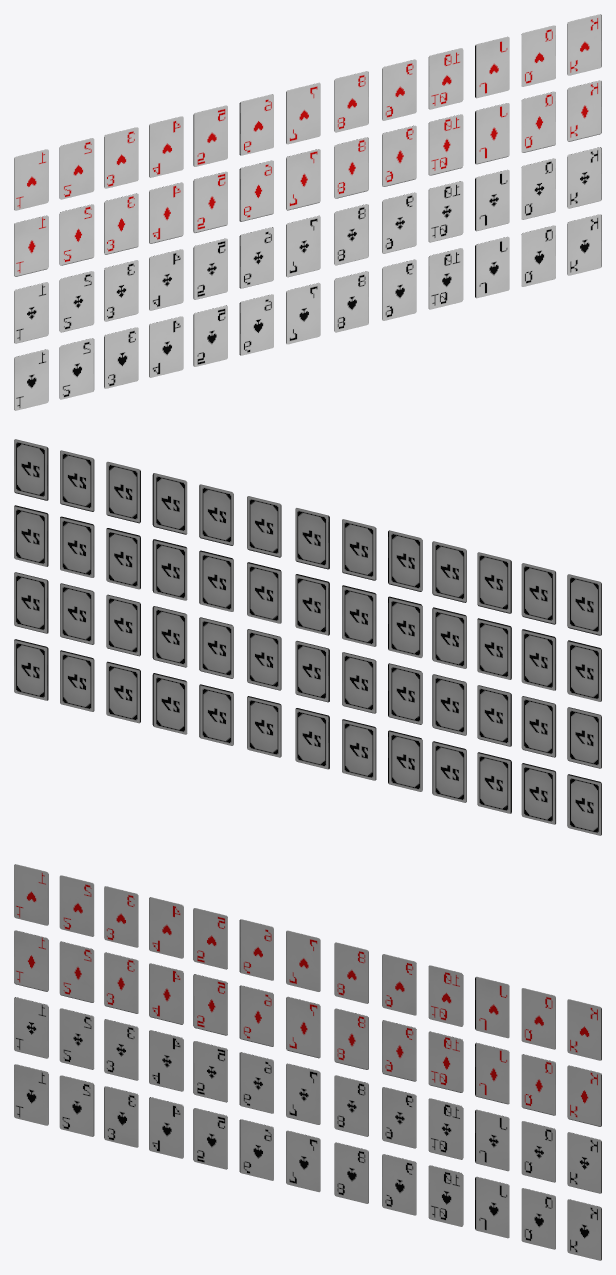
Rendered from Card.gltf.
The picture shows the model from 3 angles, top to bottom: view 1: azimuth 30°, elevation 25°; view 2: azimuth 150°, elevation 25°; view 3: azimuth 330°, elevation 25°; orthographic projection.
Visible parts, largest first — view 1: diamondsTwo, diamondsTen, clubsTen, heartsTwo, heartsTen, clubsTwo, spadesTwo, spadesTen, heartsSeven, diamondsThree, heartsSix, heartsNine (+40 smaller); view 2: diamondsTwo, diamondsTen, clubsTen, heartsTwo, heartsTen, clubsTwo, spadesTwo, spadesTen, heartsSeven, diamondsThree, heartsSix, heartsNine (+40 smaller); view 3: clubsTwo, diamondsTen, diamondsTwo, spadesTwo, spadesTen, heartsTwo, heartsTen, clubsTen, diamondsFive, diamondsJack, clubsSix, spadesSeven (+40 smaller).
Part boxes in pixels (bbox=[...]): diamondsTwo: bbox=[59, 204, 94, 265]; diamondsTen: bbox=[428, 114, 463, 175]; clubsTen: bbox=[428, 181, 463, 242]; heartsTwo: bbox=[59, 138, 94, 199]; heartsTen: bbox=[428, 48, 463, 109]; clubsTwo: bbox=[59, 271, 94, 332]; spadesTwo: bbox=[59, 338, 94, 399]; spadesTen: bbox=[428, 248, 463, 309]; heartsSeven: bbox=[286, 82, 320, 144]; diamondsThree: bbox=[104, 193, 138, 254]; heartsSix: bbox=[239, 94, 273, 155]; heartsNine: bbox=[382, 59, 416, 120]; diamondsTwo: bbox=[521, 629, 556, 690]; diamondsTen: bbox=[152, 539, 187, 600]; clubsTen: bbox=[152, 606, 187, 667]; heartsTwo: bbox=[521, 563, 556, 624]; heartsTen: bbox=[152, 473, 187, 534]; clubsTwo: bbox=[521, 696, 556, 757]; spadesTwo: bbox=[521, 763, 556, 824]; spadesTen: bbox=[152, 673, 187, 734]; heartsSeven: bbox=[295, 507, 329, 569]; diamondsThree: bbox=[477, 618, 511, 679]; heartsSix: bbox=[342, 519, 376, 580]; heartsNine: bbox=[199, 484, 233, 545]; clubsTwo: bbox=[59, 1008, 94, 1069]; diamondsTen: bbox=[428, 1031, 463, 1092]; diamondsTwo: bbox=[59, 941, 94, 1002]; spadesTwo: bbox=[59, 1075, 94, 1136]; spadesTen: bbox=[428, 1165, 463, 1226]; heartsTwo: bbox=[59, 875, 94, 936]; heartsTen: bbox=[428, 965, 463, 1026]; clubsTen: bbox=[428, 1098, 463, 1159]; diamondsFive: bbox=[193, 974, 227, 1035]; diamondsJack: bbox=[475, 1042, 509, 1104]; clubsSix: bbox=[239, 1052, 273, 1113]; spadesSeven: bbox=[286, 1130, 320, 1192].
Size of the model in its own units: 1.37 by 0.5649 by 0.001.
Materials: 1 (1 with a texture image).
